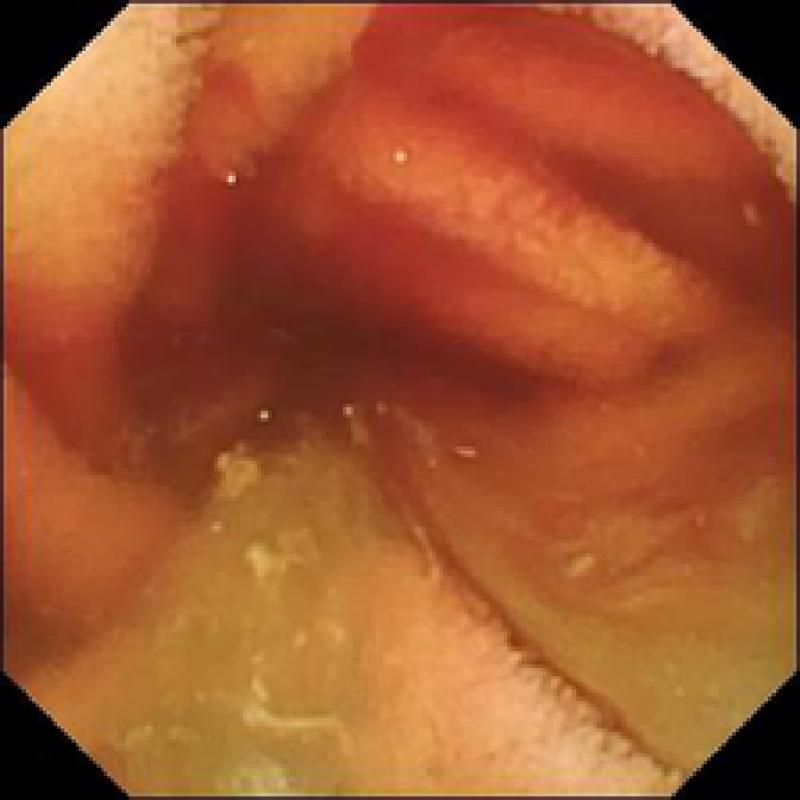bleeding: (14, 0, 800, 457)
